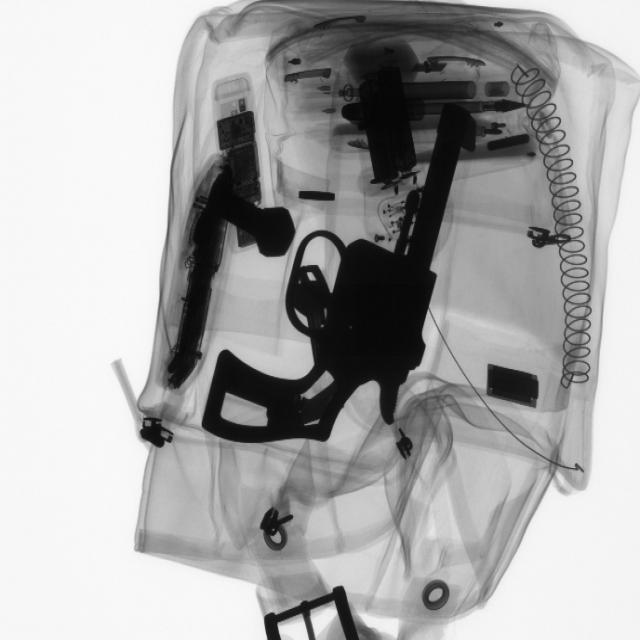GUN: (183, 110, 472, 451)
